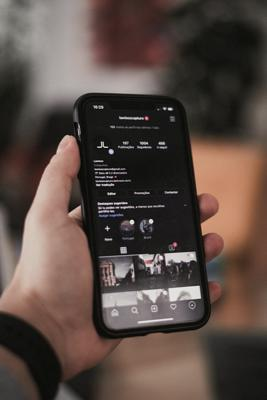cell-phone: (68, 92, 216, 342)
